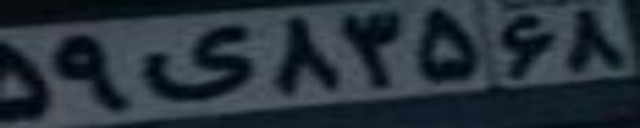3: (342, 9, 402, 88)
5: (417, 9, 480, 83), (0, 39, 51, 123)
6: (498, 14, 555, 79)
8: (270, 16, 337, 94), (564, 9, 625, 71)
9: (50, 32, 133, 112)
ye: (138, 25, 254, 100)
